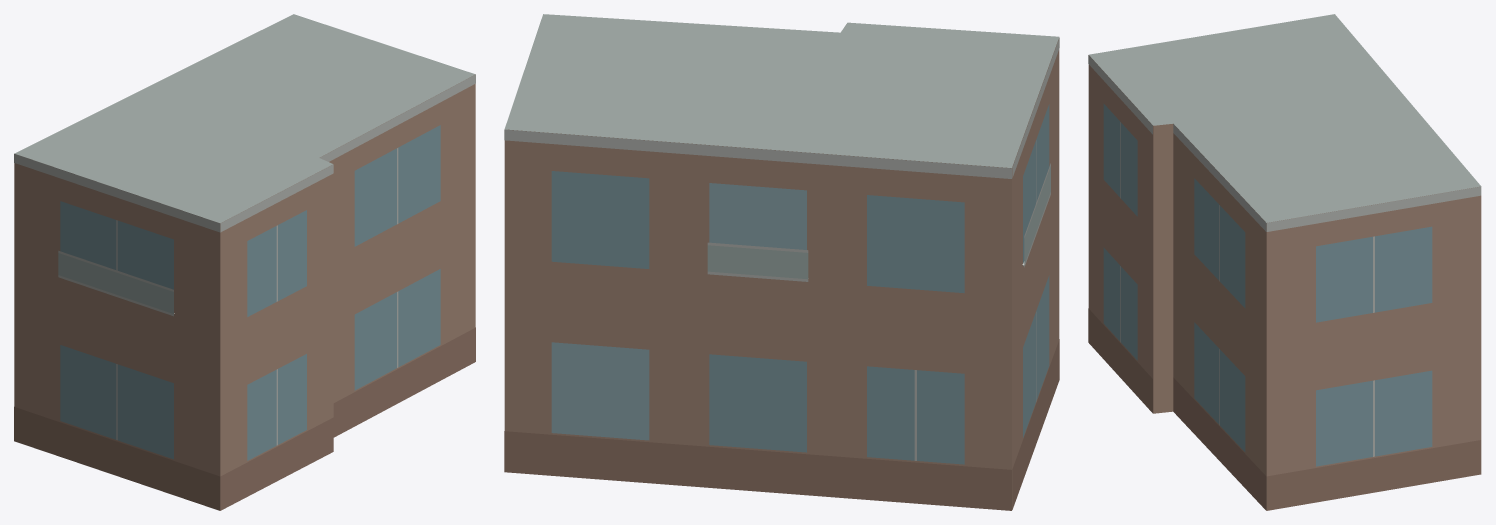
File: survey-upis-32889503.glb
3 views of the same model, side by side, from view 1: azimuth 30°, elevation 25°; view 2: azimuth 150°, elevation 25°; view 3: azimuth 270°, elevation 25° (orthographic). The views are drawn at different scales.
Parts seen in each view (by area): view 1: survey-upis-32889503.tmp; view 2: survey-upis-32889503.tmp; view 3: survey-upis-32889503.tmp.
Boxes of the visible parts, x1,y1,x2,y2 form: survey-upis-32889503.tmp: (14,14,475,510); survey-upis-32889503.tmp: (504,14,1059,510); survey-upis-32889503.tmp: (1088,14,1481,510).
Bounding box in the file's own units: 11.83 × 7.6 × 9.41.
